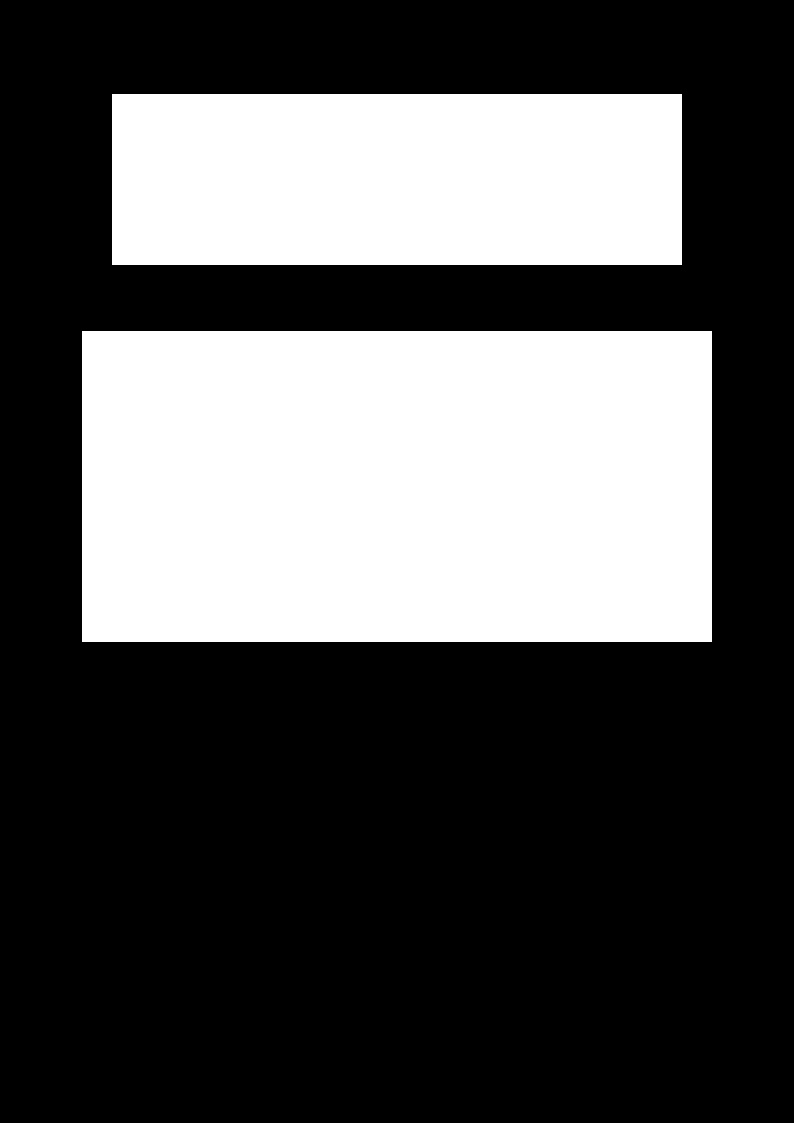table: (82, 331, 711, 641), (112, 94, 681, 264)
